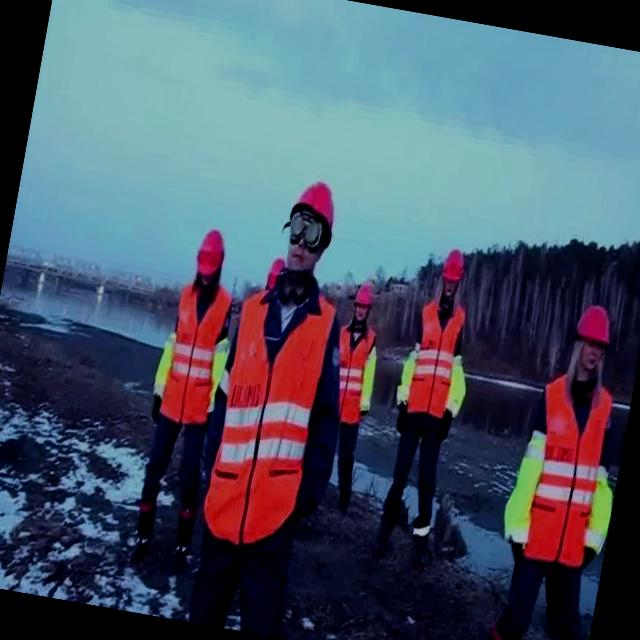vest: (198, 278, 338, 556), (512, 368, 618, 570), (157, 274, 235, 428), (404, 294, 470, 418), (323, 319, 380, 426)
